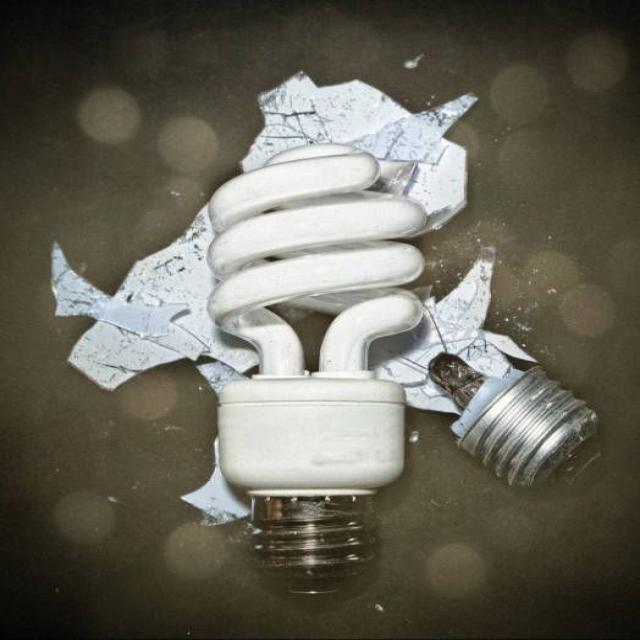electronic: (202, 139, 431, 593), (426, 351, 601, 488)
